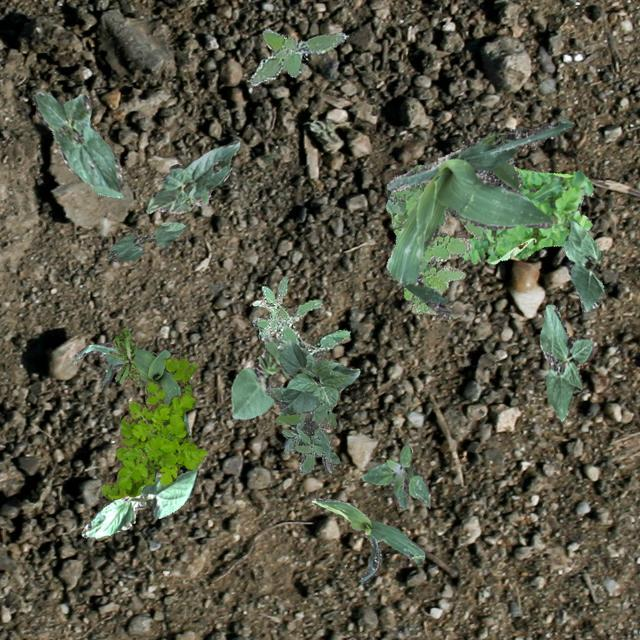crop: (386, 116, 572, 320), (71, 342, 189, 434), (311, 496, 424, 582), (31, 90, 121, 196), (80, 468, 198, 536), (144, 140, 238, 212), (538, 304, 592, 421), (276, 341, 358, 414), (230, 336, 288, 418), (562, 218, 602, 312), (106, 222, 184, 260)
weed: (100, 354, 206, 498), (384, 164, 482, 314), (457, 168, 592, 262), (264, 386, 338, 474), (252, 298, 348, 359), (248, 27, 346, 84), (362, 444, 428, 508), (252, 274, 290, 334), (106, 326, 140, 386)
